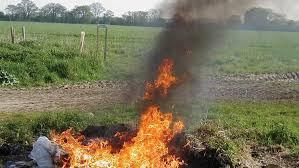fire: (33, 56, 186, 168)
smoke: (153, 0, 252, 70)
